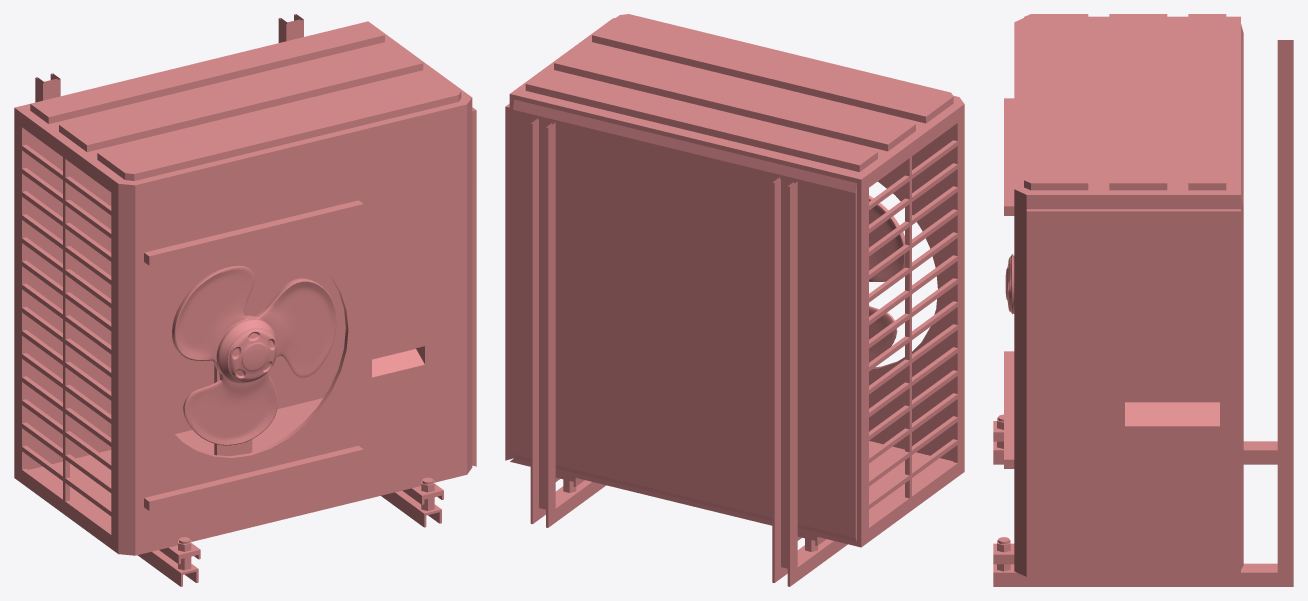
Rendered from Side-Street-Airpump.fbx.
3 renders of one model, left to right at view 1: azimuth 30°, elevation 25°; view 2: azimuth 150°, elevation 25°; view 3: azimuth 270°, elevation 25°, orthographic. The views are drawn at different scales.
Visible parts, largest first — view 1: SideStreet-Props-AirPump; view 2: SideStreet-Props-AirPump; view 3: SideStreet-Props-AirPump.
Part boxes in pixels (x1=…): SideStreet-Props-AirPump: x1=14, y1=14, x2=476, y2=586; SideStreet-Props-AirPump: x1=505, y1=14, x2=964, y2=586; SideStreet-Props-AirPump: x1=993, y1=14, x2=1293, y2=586.
Size of the model in its own units: 81 by 88.5 by 56.97.
